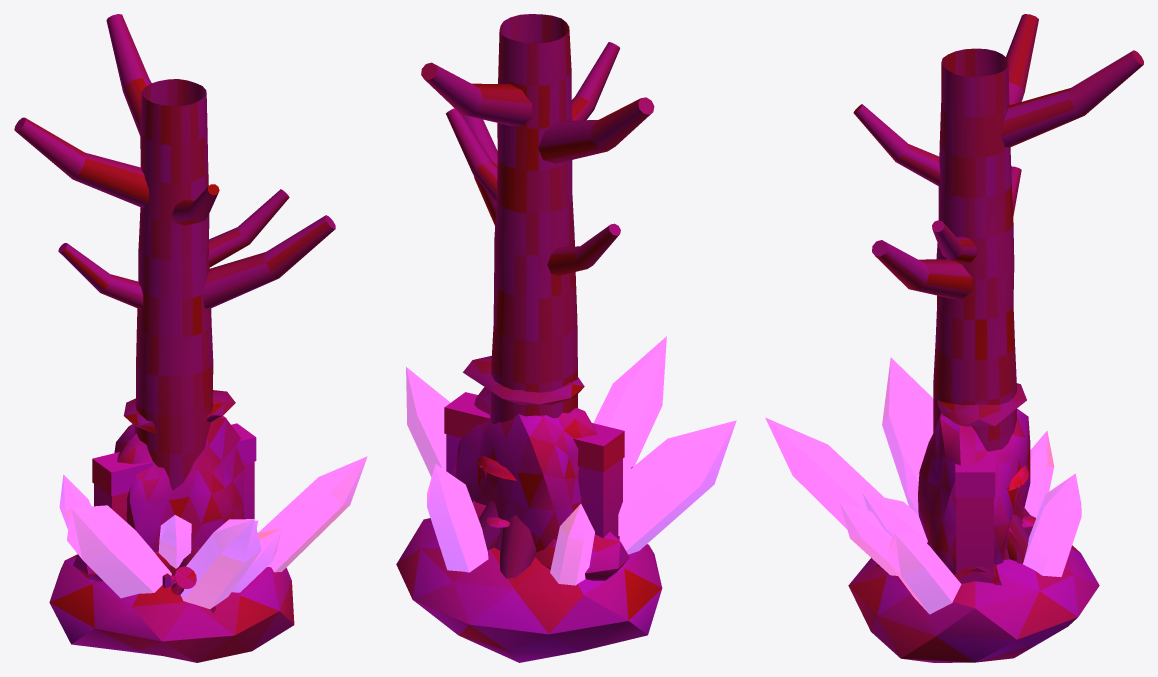
The model's file is props_pre_detail.glb.
The picture shows the model from 3 angles, left to right: view 1: azimuth 30°, elevation 25°; view 2: azimuth 150°, elevation 25°; view 3: azimuth 270°, elevation 25°; orthographic projection. The views are drawn at different scales.
Visible parts, largest first — view 1: tree_trunk_a, crystal_spire, falls_rock, tree_trunk_b, great_door, watering_can; view 2: crystal_spire, tree_trunk_a, falls_rock, great_door, tree_trunk_b; view 3: crystal_spire, tree_trunk_a, falls_rock, great_door, tree_trunk_b.
Part boxes in pixels (x1,y1,x2,y2): tree_trunk_a: (14,14,335,613); crystal_spire: (49,456,367,662); falls_rock: (73,390,244,581); tree_trunk_b: (58,184,289,309); great_door: (92,423,256,521); watering_can: (155,552,196,594); crystal_spire: (396,336,736,662); tree_trunk_a: (421,14,654,578); falls_rock: (453,355,629,580); great_door: (444,392,624,538); tree_trunk_b: (445,42,620,275); crystal_spire: (765,357,1099,662); tree_trunk_a: (872,14,1143,566); falls_rock: (918,383,1030,571); great_door: (955,451,995,583); tree_trunk_b: (853,104,1021,262).
Size of the model in its own units: 28.87 by 52.77 by 30.24.
